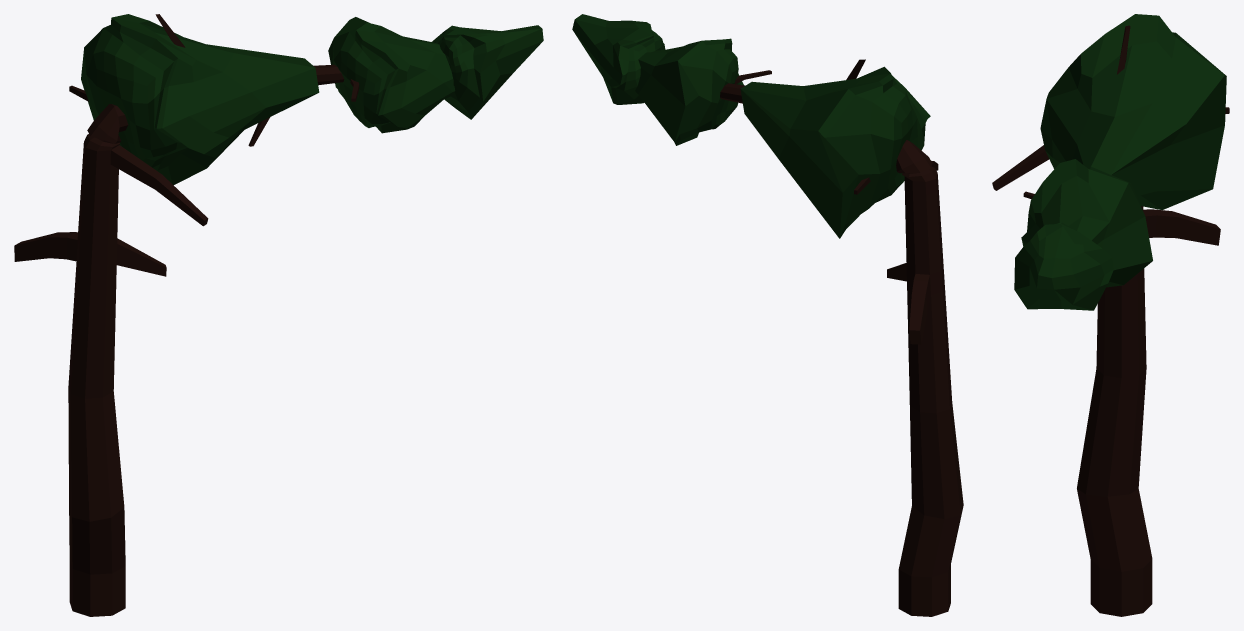
3 renders of one model, left to right at view 1: azimuth 30°, elevation 25°; view 2: azimuth 150°, elevation 25°; view 3: azimuth 270°, elevation 25°, orthographic. The views are drawn at different scales.
Parts seen in each view (by area): view 1: Cylinder.117, Cube.213, Cube.212, Cube.211; view 2: Cylinder.117, Cube.213, Cube.212, Cube.211; view 3: Cube.213, Cylinder.117, Cube.212, Cube.211.
Part boxes in pixels (bbox=[...]): Cylinder.117: bbox=[14, 14, 359, 616]; Cube.213: bbox=[81, 14, 319, 185]; Cube.212: bbox=[328, 17, 455, 133]; Cube.211: bbox=[432, 25, 543, 119]; Cylinder.117: bbox=[720, 59, 963, 616]; Cube.213: bbox=[740, 66, 930, 238]; Cube.212: bbox=[635, 38, 743, 145]; Cube.211: bbox=[572, 14, 665, 104]; Cube.213: bbox=[1040, 14, 1226, 210]; Cylinder.117: bbox=[992, 25, 1229, 616]; Cube.212: bbox=[1021, 159, 1152, 287]; Cube.211: bbox=[1014, 222, 1113, 310].
Size of the model in its own units: 1785 by 2177 by 768.
